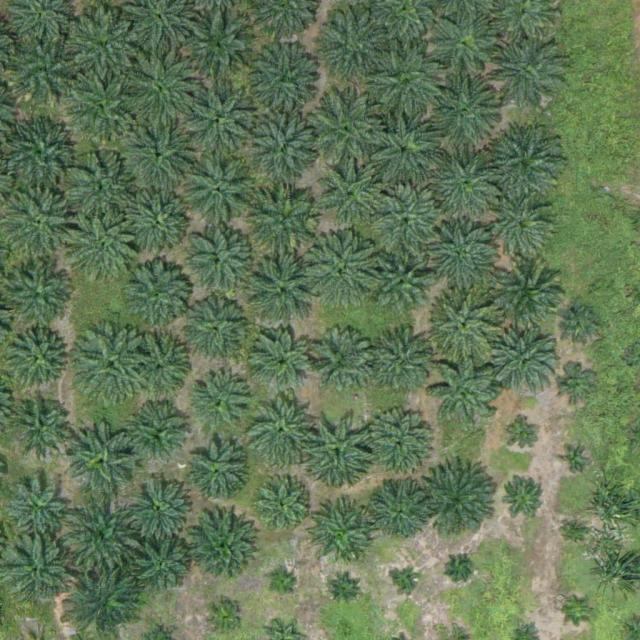Healthy: (2, 115, 80, 194), (67, 212, 145, 291), (63, 151, 141, 230), (120, 49, 198, 128), (121, 114, 199, 193), (119, 181, 197, 260), (116, 257, 194, 336), (180, 226, 258, 305), (180, 152, 258, 231), (249, 41, 327, 120), (246, 182, 324, 261), (246, 254, 324, 333), (307, 92, 385, 171), (311, 9, 389, 88), (367, 49, 445, 128), (363, 113, 441, 192), (368, 189, 446, 268), (423, 221, 501, 300), (428, 150, 506, 229), (424, 74, 502, 153), (488, 36, 566, 115), (486, 126, 564, 205), (493, 264, 571, 343), (301, 413, 379, 492), (244, 392, 322, 471), (72, 326, 150, 405), (63, 495, 141, 574), (184, 79, 262, 157), (184, 9, 262, 87), (246, 111, 324, 189), (306, 234, 384, 312), (424, 464, 502, 542), (431, 355, 502, 426), (10, 41, 80, 112), (492, 330, 562, 401), (362, 409, 432, 480), (187, 515, 257, 586), (125, 471, 195, 542), (69, 421, 139, 492), (67, 8, 137, 78), (2, 264, 72, 334), (432, 290, 502, 360), (305, 503, 375, 573), (5, 538, 75, 608), (492, 198, 555, 261), (252, 333, 315, 396), (182, 300, 245, 363), (130, 402, 193, 465), (5, 327, 68, 390), (7, 476, 70, 539), (72, 74, 134, 137), (321, 166, 383, 229), (434, 17, 497, 79), (368, 479, 430, 542), (372, 332, 434, 395), (309, 331, 371, 394), (252, 475, 314, 538), (190, 373, 252, 436), (185, 440, 247, 503), (129, 331, 191, 394), (11, 395, 73, 457), (374, 258, 429, 313), (136, 540, 191, 595)
Small: (501, 474, 548, 521), (555, 365, 595, 405), (203, 598, 243, 637), (562, 304, 601, 344), (510, 422, 541, 454), (330, 574, 361, 605), (268, 571, 299, 602), (569, 600, 593, 624), (449, 555, 473, 579), (397, 571, 420, 595), (564, 451, 587, 474), (566, 520, 589, 543)
